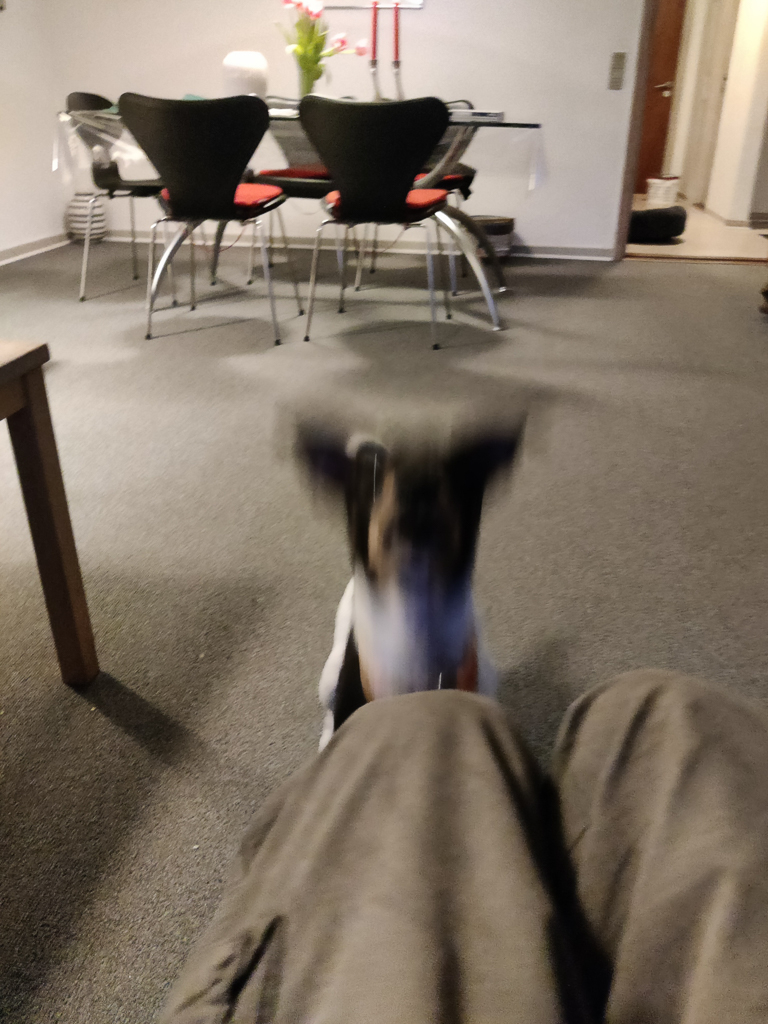Dog: (266, 371, 562, 777)
Humanoid: (135, 660, 768, 1024)
